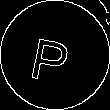P_N: (32, 27, 78, 83)
